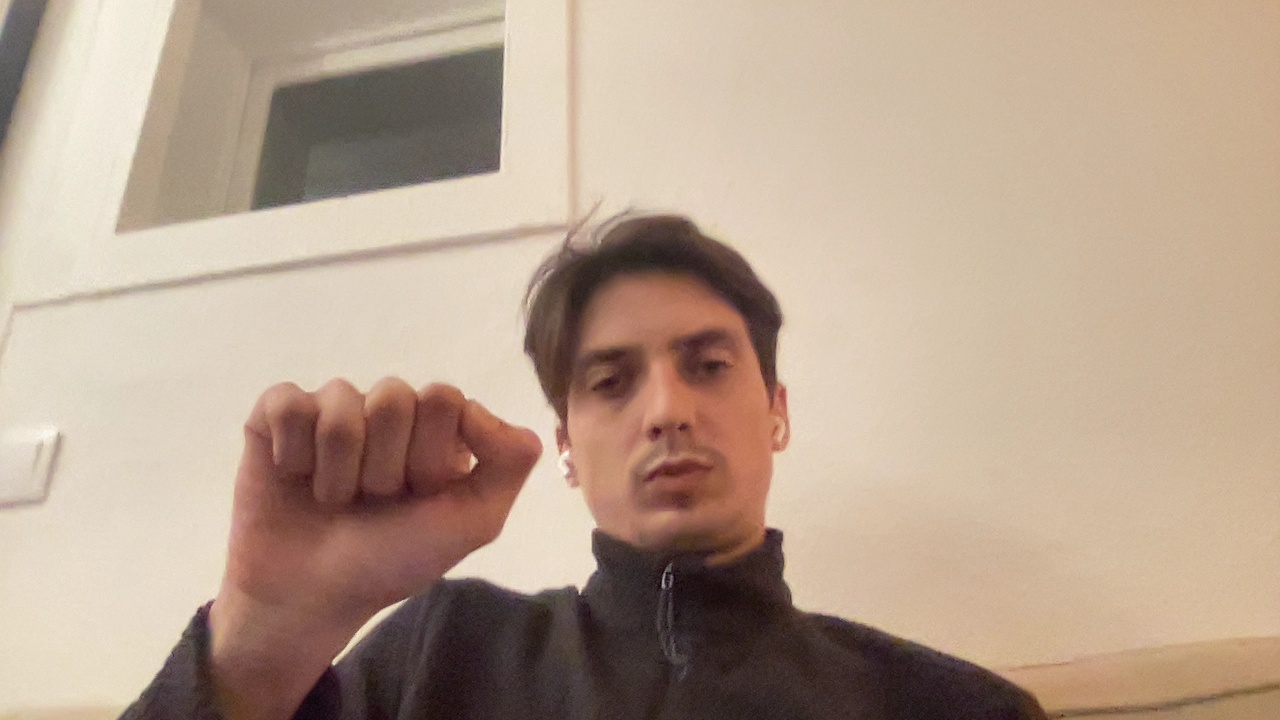Yes: (181, 313, 555, 669)
